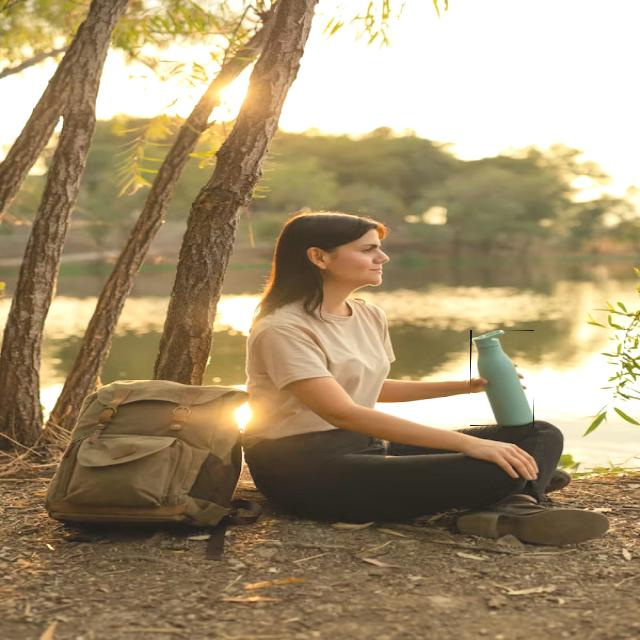Bottle: (471, 330, 534, 425)
